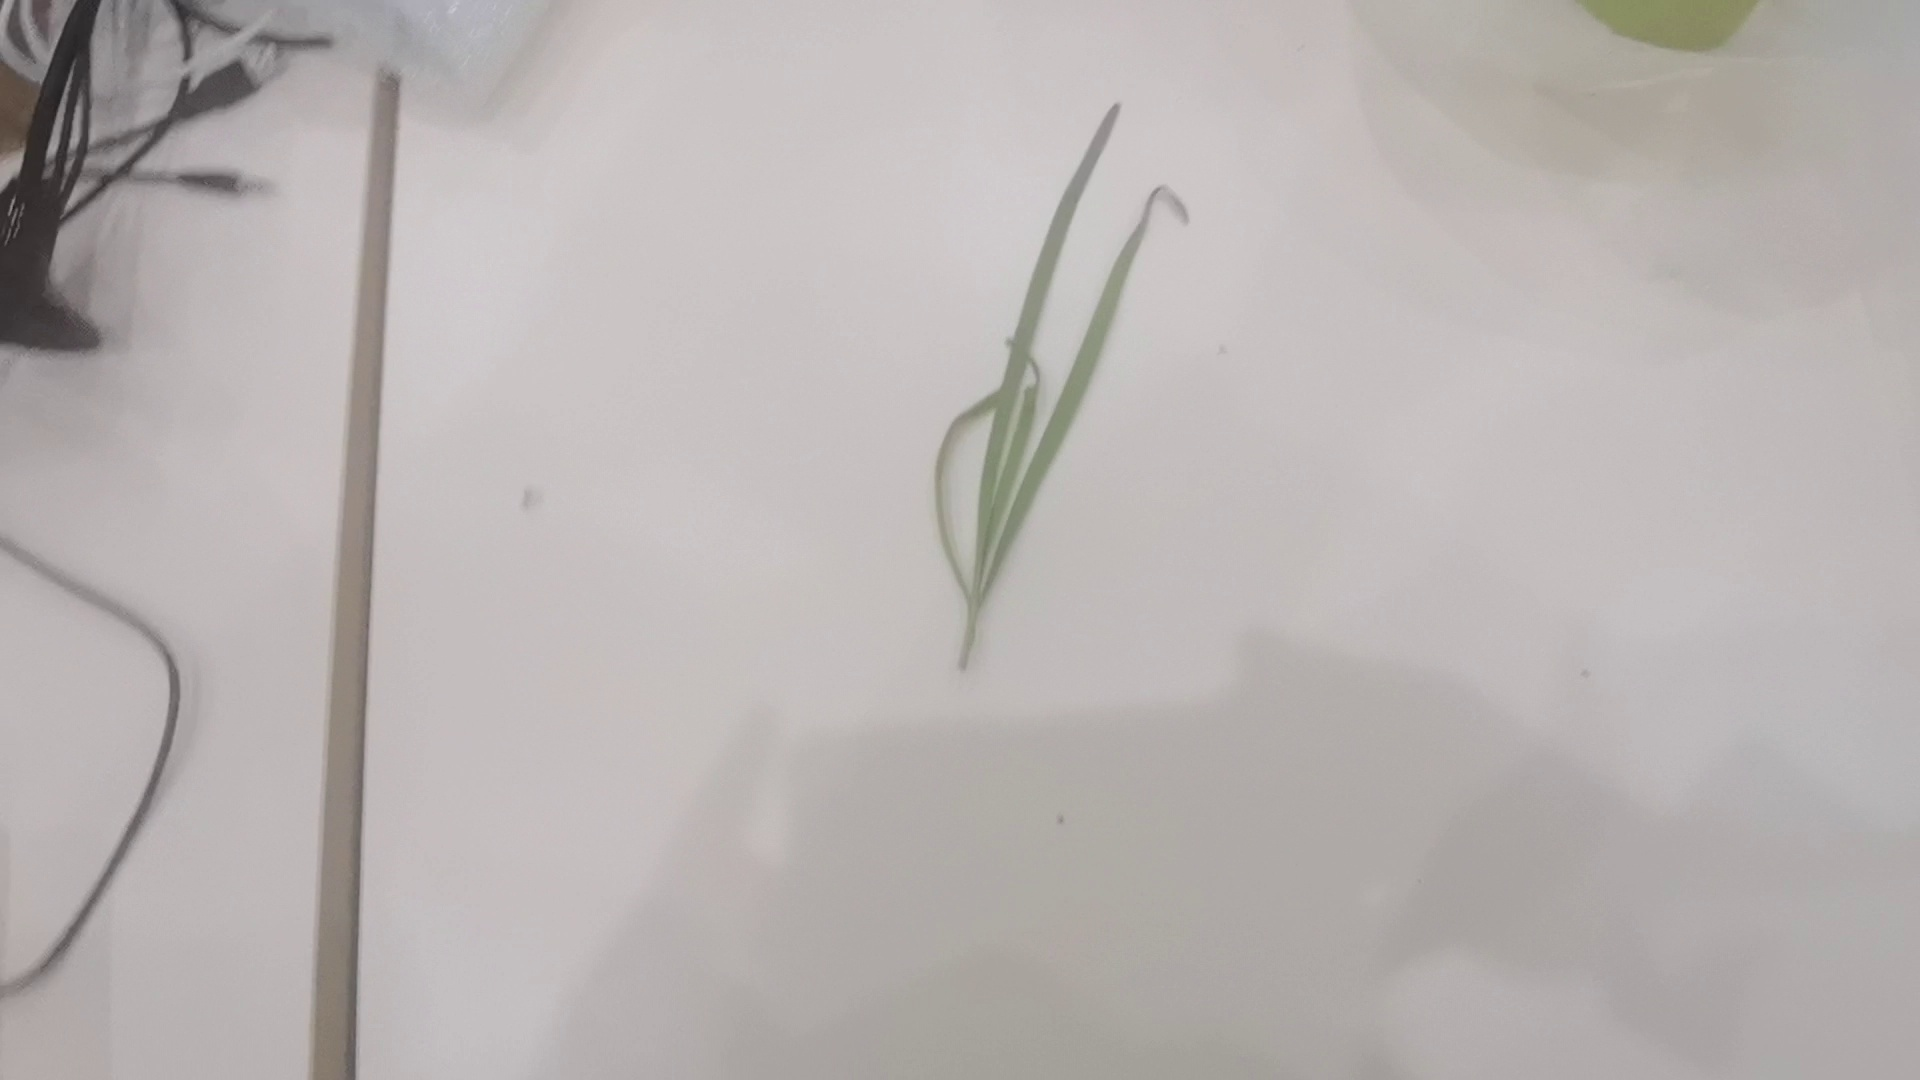chives: (880, 86, 1197, 723)
